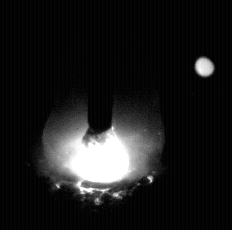arame: (88, 0, 114, 135)
poca: (43, 0, 164, 230)
